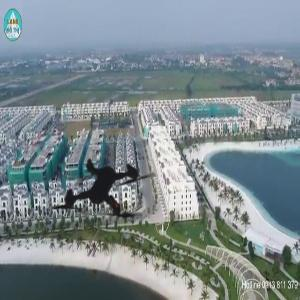drone: (27, 116, 181, 270)
